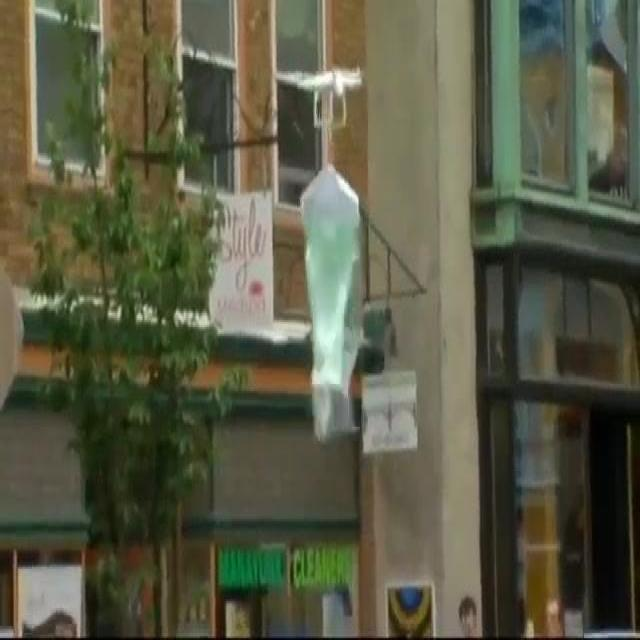UAV: (273, 66, 362, 132)
